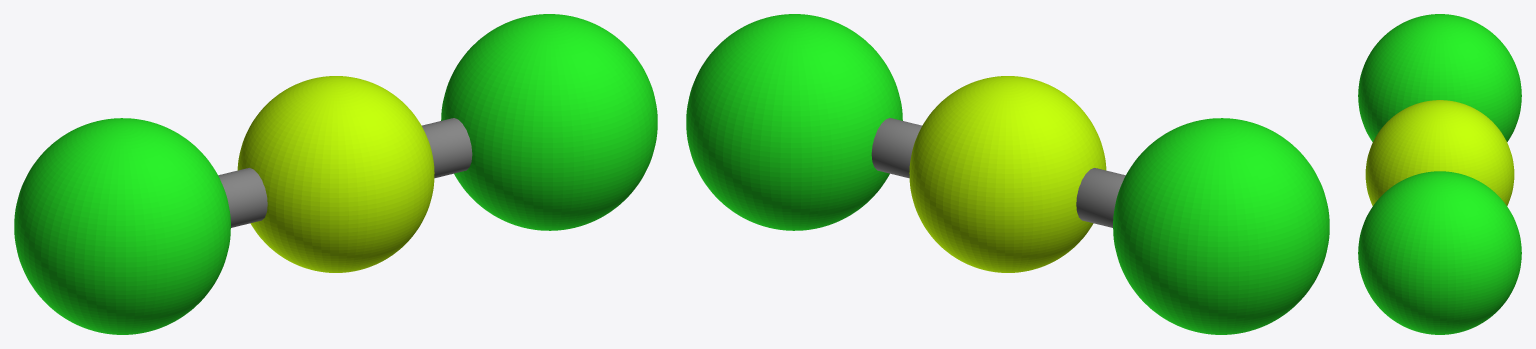
Rendered from CLORURO BERILIO.obj.
3 views of the same model, side by side, from view 1: azimuth 30°, elevation 25°; view 2: azimuth 150°, elevation 25°; view 3: azimuth 270°, elevation 25° (orthographic). The views are drawn at different scales.
Visible parts, largest first — view 1: Chlorine_ball_Esfera.001, Beryllium_ball_Esfera, Stick_Cylinder_0001_Cilindro.001, Stick_Cylinder_0000_Cilindro; view 2: Chlorine_ball_Esfera.001, Beryllium_ball_Esfera, Stick_Cylinder_0001_Cilindro.001, Stick_Cylinder_0000_Cilindro; view 3: Chlorine_ball_Esfera.001, Beryllium_ball_Esfera.
Part boxes in pixels (x1,y1,x2,y2): Chlorine_ball_Esfera.001: (14, 14, 657, 334); Beryllium_ball_Esfera: (237, 76, 434, 272); Stick_Cylinder_0001_Cilindro.001: (422, 118, 472, 178); Stick_Cylinder_0000_Cilindro: (218, 168, 267, 227); Chlorine_ball_Esfera.001: (686, 14, 1329, 334); Beryllium_ball_Esfera: (909, 76, 1106, 272); Stick_Cylinder_0001_Cilindro.001: (871, 118, 921, 178); Stick_Cylinder_0000_Cilindro: (1076, 168, 1125, 227); Chlorine_ball_Esfera.001: (1358, 14, 1521, 334); Beryllium_ball_Esfera: (1365, 100, 1514, 205).
Size of the model in its own units: 5.18 by 1.58 by 1.58.
